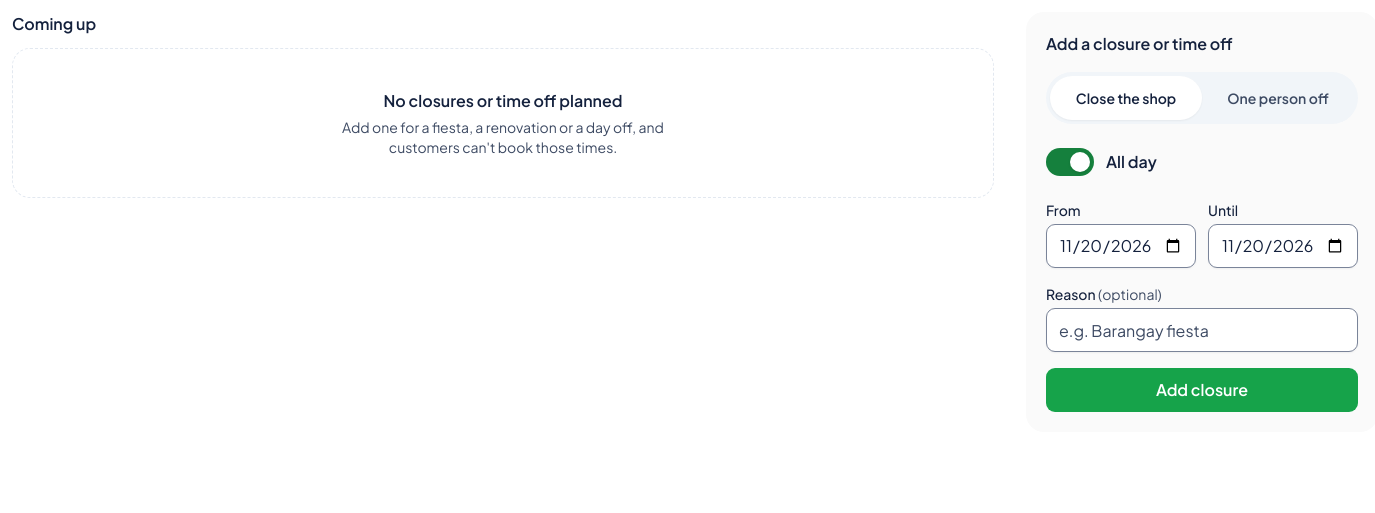
Test case: ClosuresPanel › switches between closing the shop and one person's time off
Expected: the text "No closures or time off planned" is shown, [384,90,622,111]
Expected: the button "Add closure" is shown, [1046,368,1358,412]
Step 1. Click the radio button labelled "One person off" → (1278, 98), box [1227,89,1329,107]
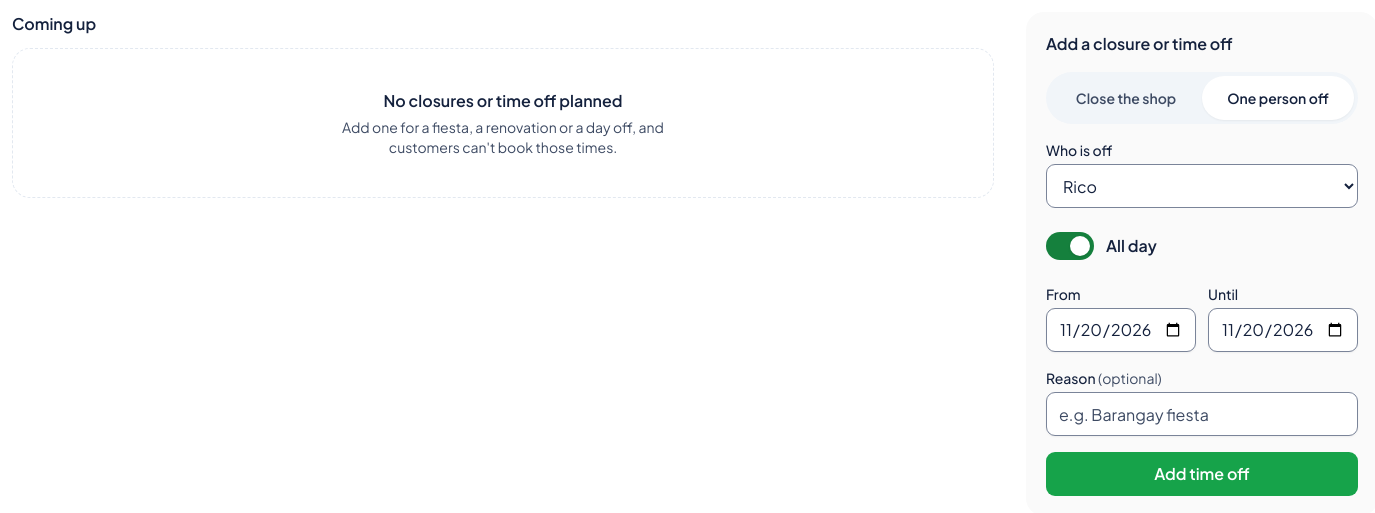
Expected: the dropdown labelled "Who is off" shows "Rico", [1046,164,1358,208]
Expected: the button "Add time off" is shown, [1046,452,1358,496]
